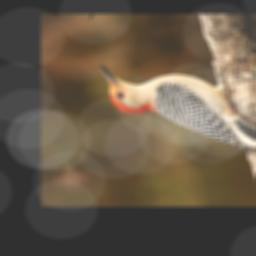Woodpecker: (100, 38, 256, 195)
